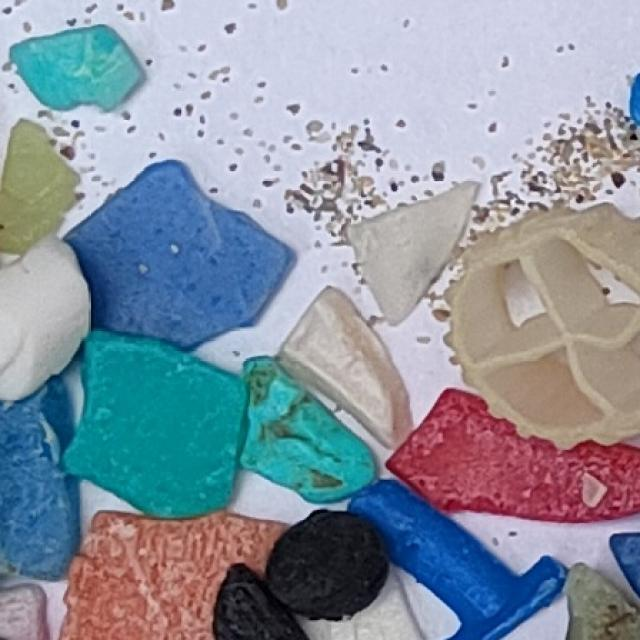beads: (0, 1, 1, 1)
fragments: (40, 141, 304, 404), (53, 325, 255, 533), (188, 345, 388, 541), (261, 281, 450, 468), (324, 146, 515, 330), (57, 512, 285, 640), (0, 377, 80, 582), (4, 20, 153, 124), (0, 234, 89, 402), (0, 118, 85, 264), (1, 1, 1, 1), (0, 1, 1, 1)
